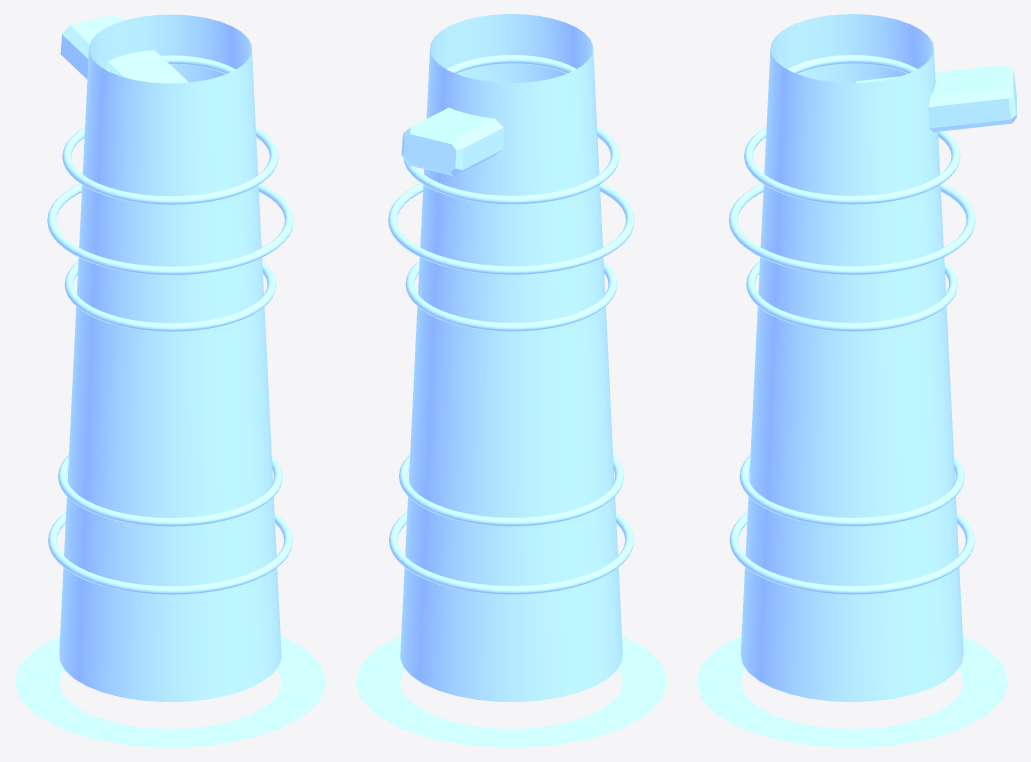
The model's file is enemy_shade_shimmer.glb.
3 renders of one model, left to right at view 1: azimuth 30°, elevation 25°; view 2: azimuth 150°, elevation 25°; view 3: azimuth 270°, elevation 25°, orthographic.
Parts seen in each view (by area): view 1: shimmer_column, shimmer_disc, shimmer_ring6, shimmer_head, shimmer_ring1, shimmer_ring7, shimmer_ring2, shimmer_ring5, shimmer_ring8; view 2: shimmer_column, shimmer_disc, shimmer_head, shimmer_ring6, shimmer_ring1, shimmer_ring2, shimmer_ring5, shimmer_ring7, shimmer_ring8; view 3: shimmer_column, shimmer_disc, shimmer_head, shimmer_ring6, shimmer_ring1, shimmer_ring7, shimmer_ring2, shimmer_ring5, shimmer_ring8.
Part boxes in pixels (x1,y1,x2,y2): shimmer_column: [59, 14, 281, 701]; shimmer_disc: [14, 635, 326, 747]; shimmer_ring6: [47, 183, 293, 275]; shimmer_head: [60, 14, 188, 83]; shimmer_ring1: [48, 512, 292, 594]; shimmer_ring7: [62, 127, 278, 204]; shimmer_ring2: [58, 455, 282, 526]; shimmer_ring5: [64, 261, 276, 331]; shimmer_ring8: [105, 55, 235, 74]; shimmer_column: [400, 14, 622, 701]; shimmer_disc: [355, 635, 667, 747]; shimmer_head: [401, 107, 503, 176]; shimmer_ring6: [388, 183, 634, 274]; shimmer_ring1: [389, 512, 633, 594]; shimmer_ring2: [399, 455, 623, 526]; shimmer_ring5: [405, 261, 617, 331]; shimmer_ring7: [403, 126, 619, 204]; shimmer_ring8: [446, 54, 576, 73]; shimmer_column: [740, 14, 963, 702]; shimmer_disc: [696, 635, 1008, 747]; shimmer_head: [854, 64, 1016, 132]; shimmer_ring6: [728, 183, 975, 274]; shimmer_ring1: [729, 512, 974, 594]; shimmer_ring7: [744, 126, 960, 204]; shimmer_ring2: [739, 455, 964, 526]; shimmer_ring5: [746, 261, 957, 331]; shimmer_ring8: [787, 55, 916, 73].
Bounding box in the file's own units: 0.84 × 1.88 × 0.8632.
